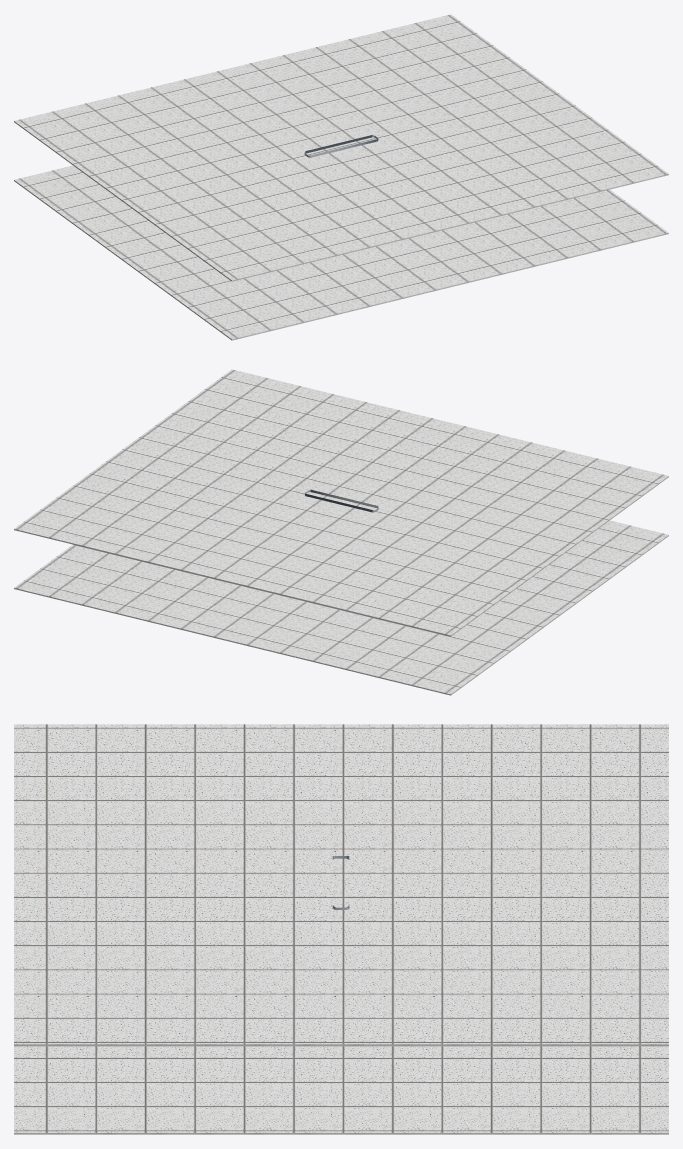
The model's file is black_ceiling_light.glb.
3 views of the same model, one above another, from view 1: azimuth 30°, elevation 25°; view 2: azimuth 150°, elevation 25°; view 3: azimuth 270°, elevation 25° (orthographic). The views are drawn at different scales.
Parts seen in each view (by area): view 1: pCube11, pCube12; view 2: pCube11, pCube12; view 3: pCube11, pCube12.
Part boxes in pixels (x1,y1,x2,y2): pCube11: (14, 14, 668, 281); pCube12: (14, 165, 668, 340); pCube11: (14, 369, 668, 636); pCube12: (14, 520, 668, 695); pCube11: (14, 724, 668, 1046); pCube12: (14, 1046, 668, 1134).
Bounding box in the file's own units: 0.5986 × 0.082 × 0.5173.
5 materials, 2 textured.
